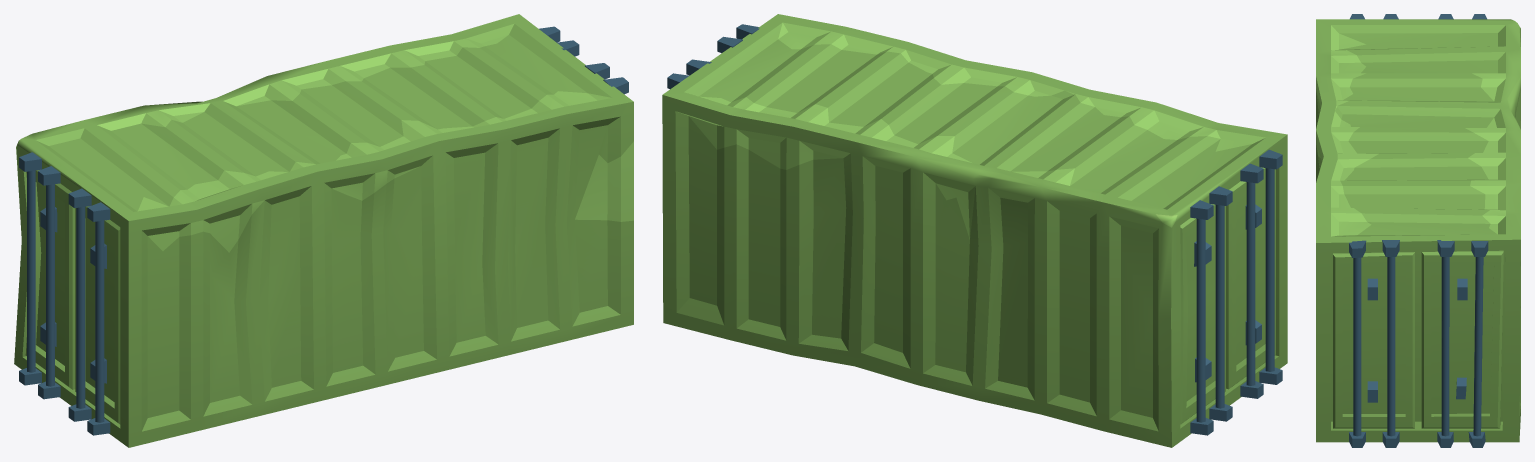
The model's file is DC_Green.fbx.
3 views of the same model, side by side, from view 1: azimuth 30°, elevation 25°; view 2: azimuth 150°, elevation 25°; view 3: azimuth 270°, elevation 25° (orthographic). The views are drawn at different scales.
Parts seen in each view (by area): view 1: DC_Green; view 2: DC_Green; view 3: DC_Green.
Part boxes in pixels (bbox=[...]): DC_Green: bbox=[14, 14, 633, 447]; DC_Green: bbox=[662, 14, 1287, 447]; DC_Green: bbox=[1316, 14, 1520, 447].
Size of the model in its own units: 648 by 262 by 240.
